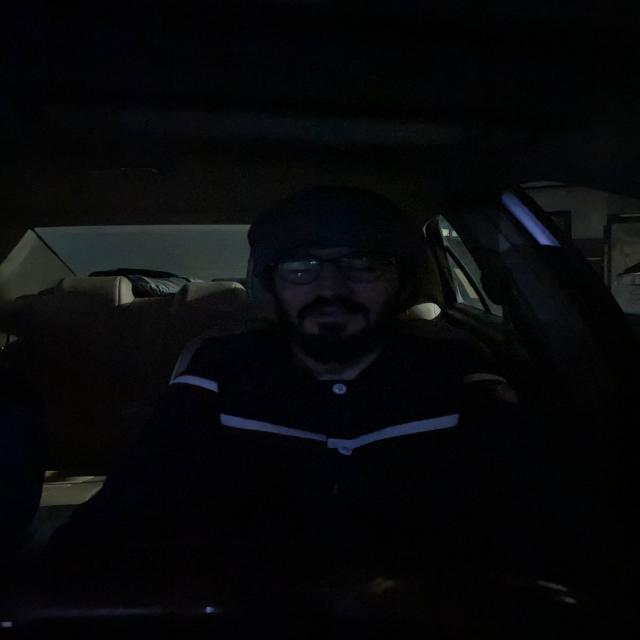drowsy: (256, 211, 411, 361)
